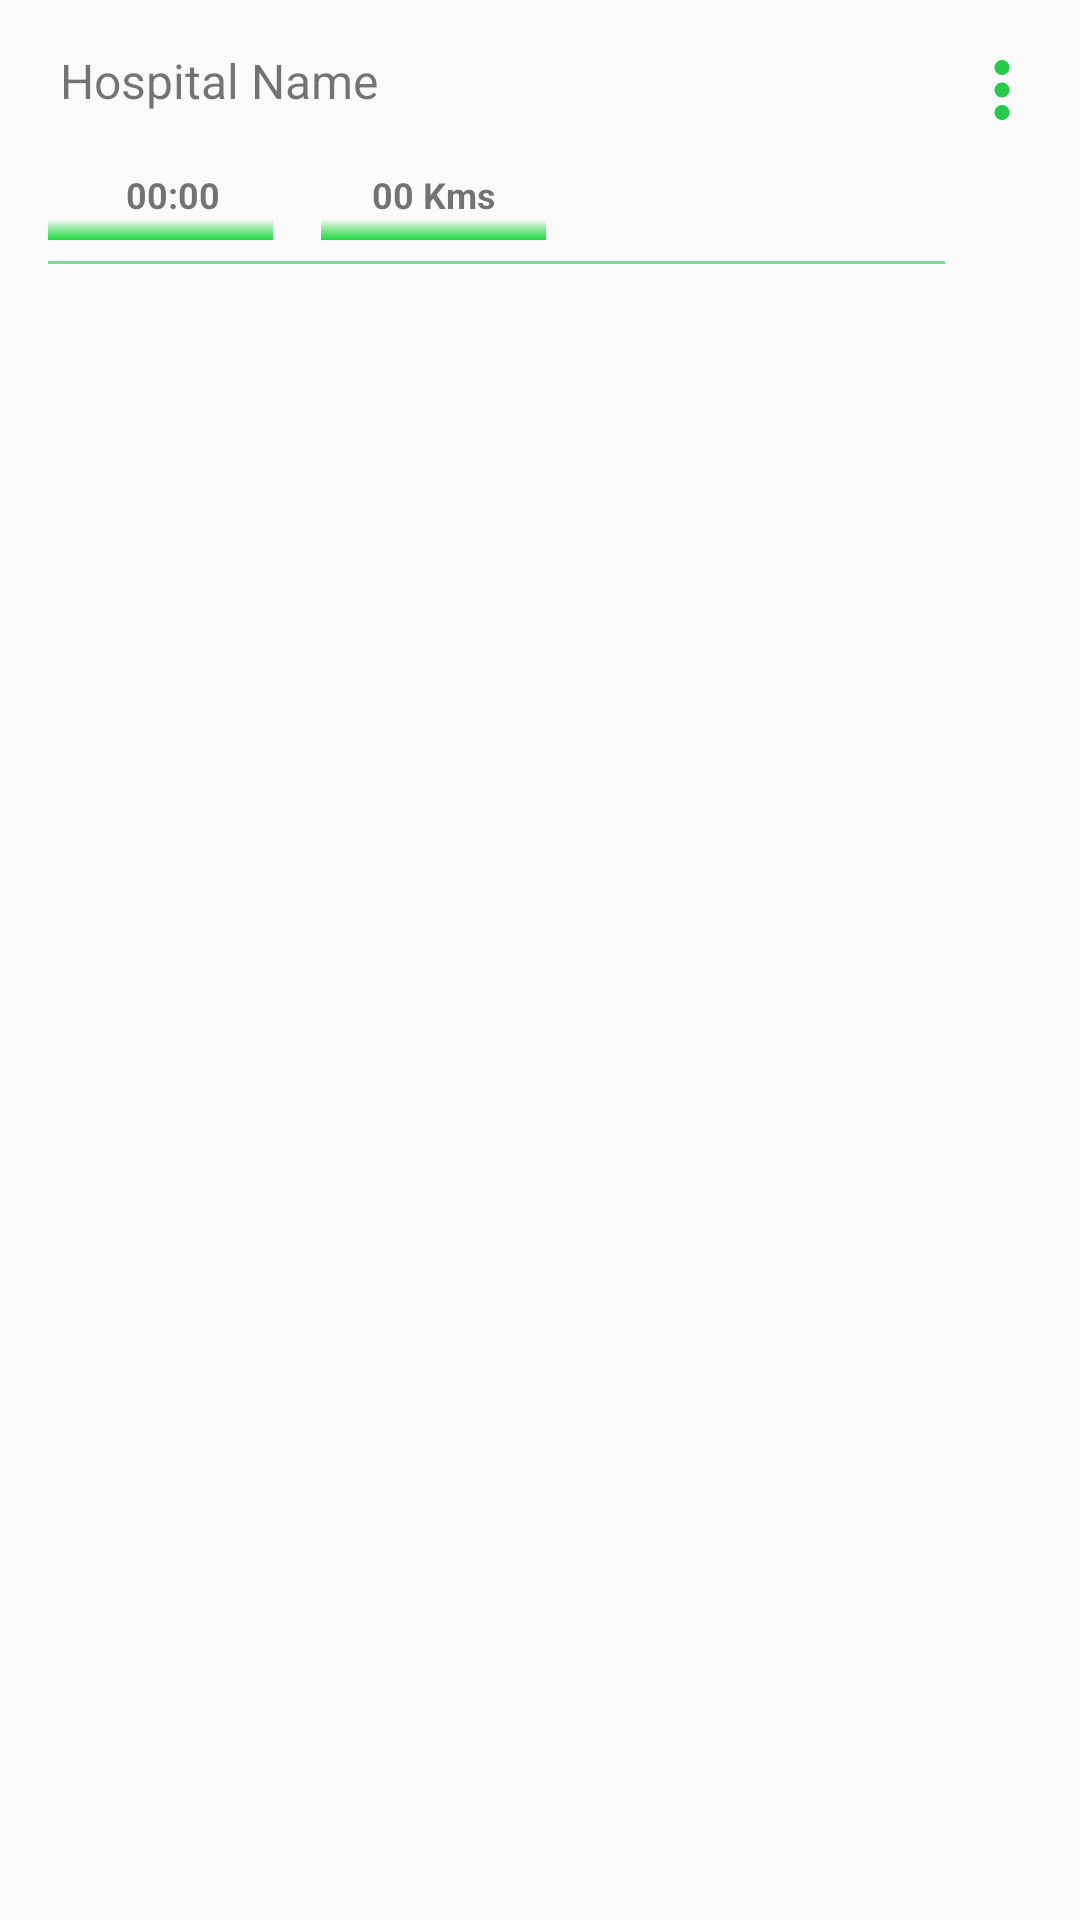

Icons on this 1080×1920 Android screen, each with its box as {"x1": x1, "y1": y1, "x2": x2, "y2": y2}:
more vert: {"x1": 994, "y1": 60, "x2": 1010, "y2": 120}
